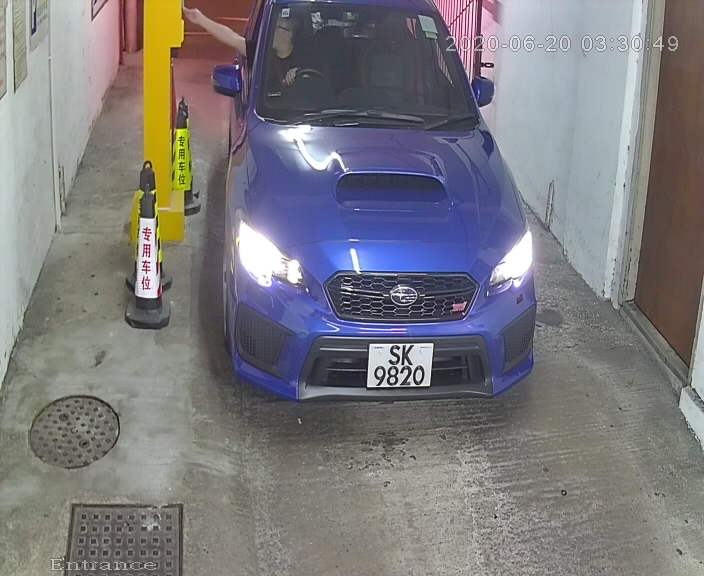privatecar: (174, 3, 547, 415)
